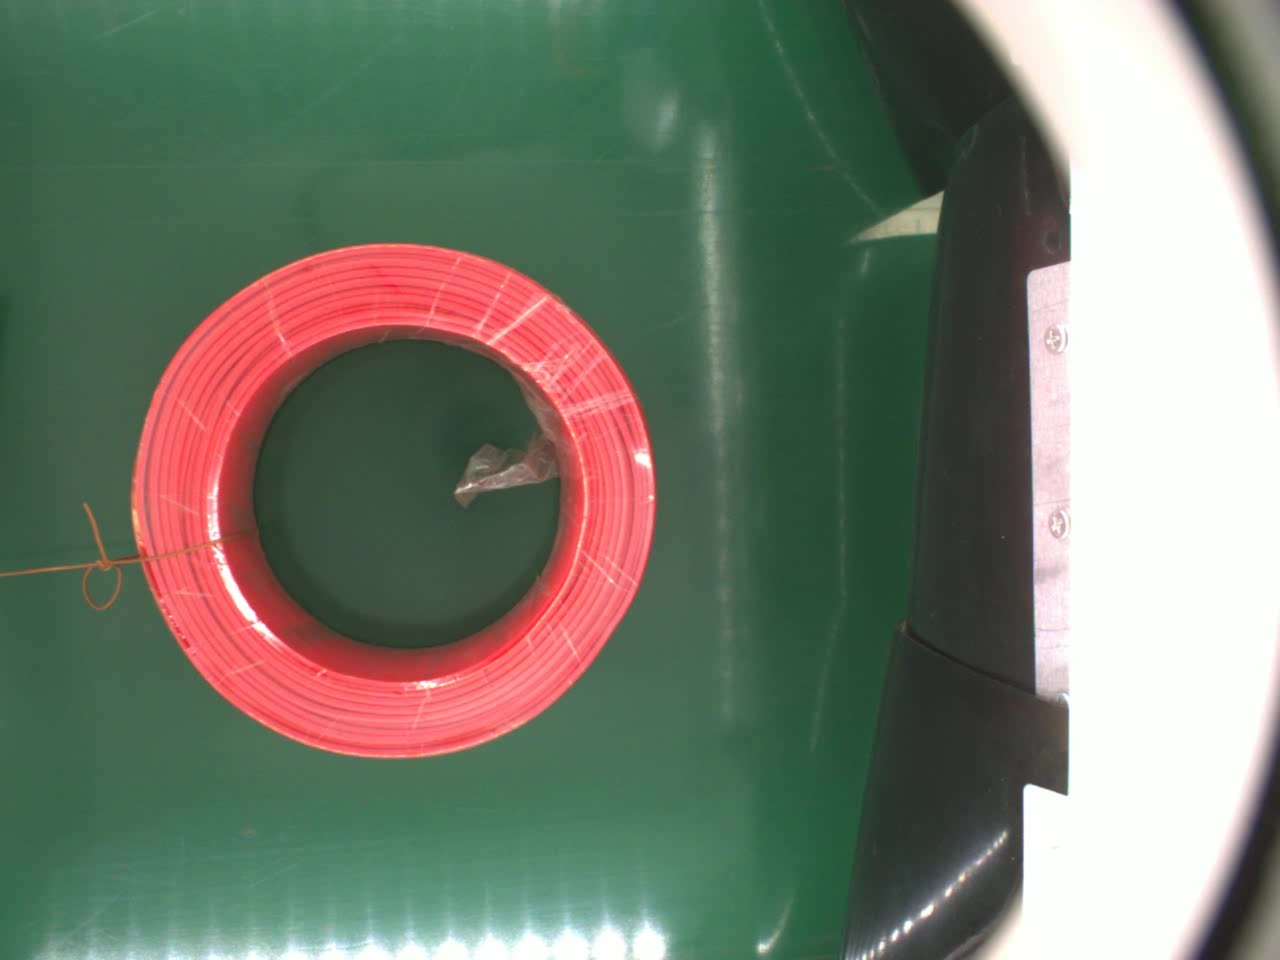red: (127, 241, 660, 761)
